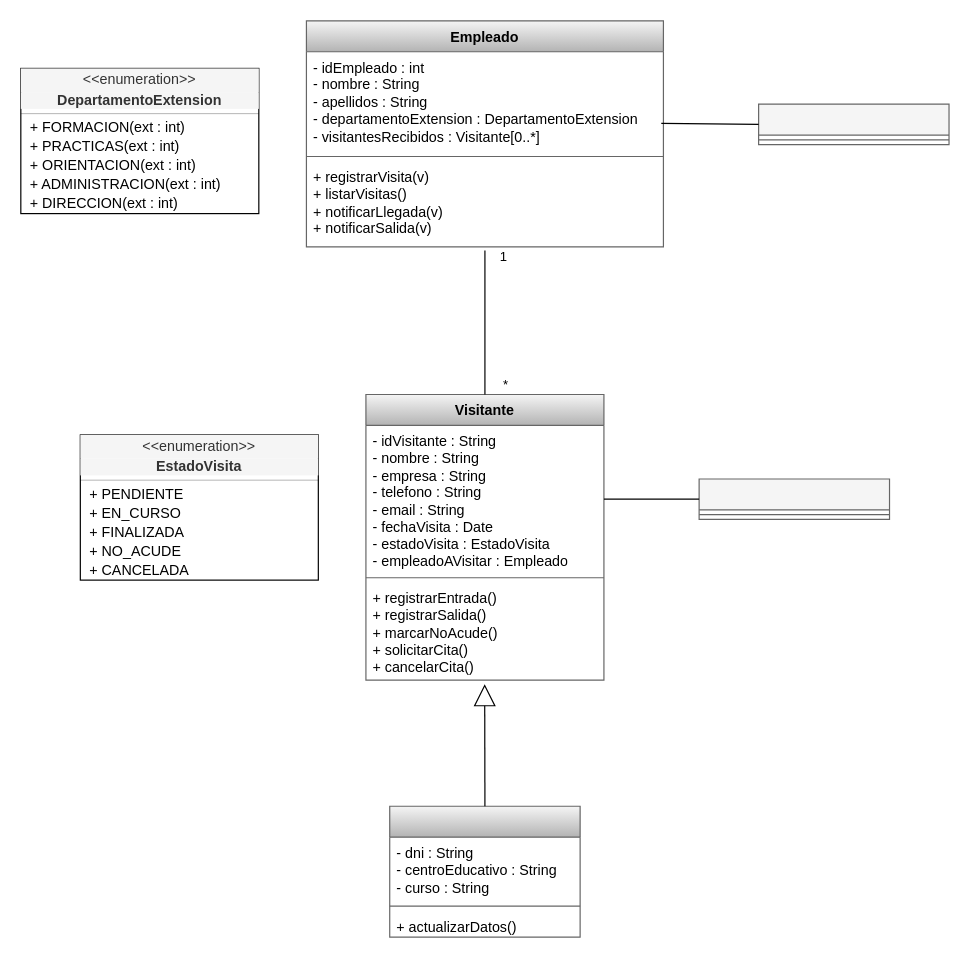
The diagram is 970 pixels wide and 962 high, and some of its shapes have lost their labels. Each missing label, with the box of its shape:
Alumno: (389, 805, 580, 937)
GestorEmpleado: (757, 103, 949, 145)
GestorVisitante: (698, 478, 890, 519)
